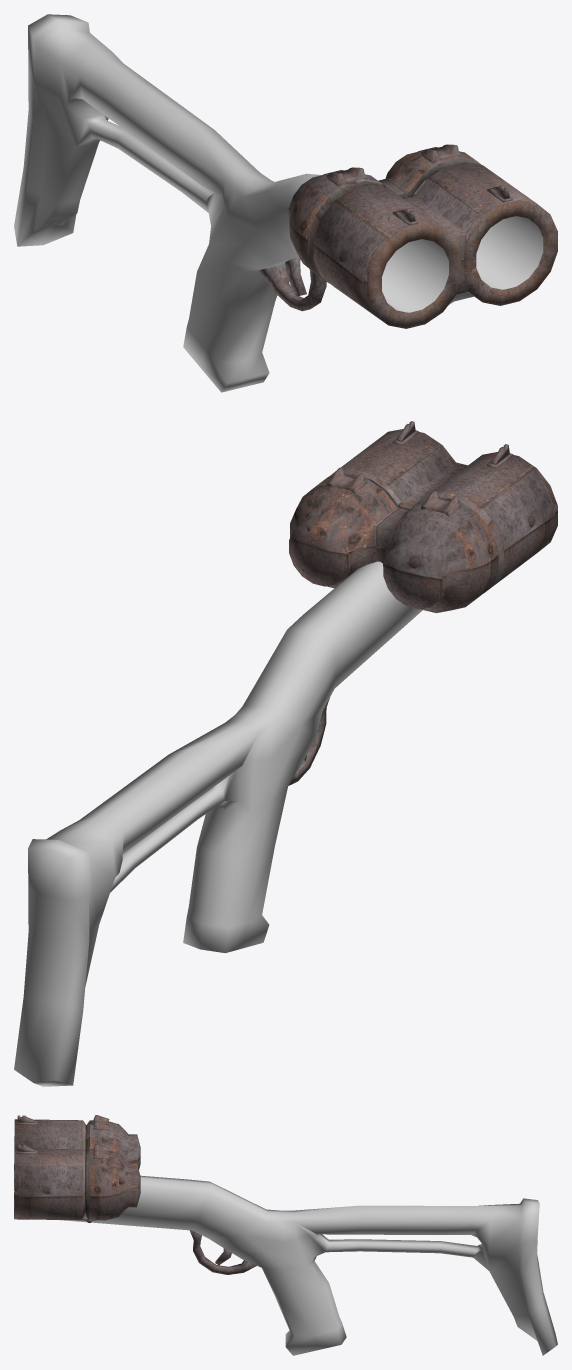
The model's file is SM_Gun_DualLauncher_00.fbx.
3 views of the same model, one above another, from view 1: azimuth 30°, elevation 25°; view 2: azimuth 150°, elevation 25°; view 3: azimuth 270°, elevation 25° (orthographic). The views are drawn at different scales.
Visible parts, largest first — view 1: SM_Gun_DualLauncher_00; view 2: SM_Gun_DualLauncher_00; view 3: SM_Gun_DualLauncher_00.
Boxes of the visible parts, x1=… form: SM_Gun_DualLauncher_00: x1=14, y1=14, x2=557, y2=392; SM_Gun_DualLauncher_00: x1=14, y1=421, x2=557, y2=1086; SM_Gun_DualLauncher_00: x1=14, y1=1115, x2=557, y2=1355.
Bounding box in the file's own units: 18.75 × 32.82 × 73.26.
